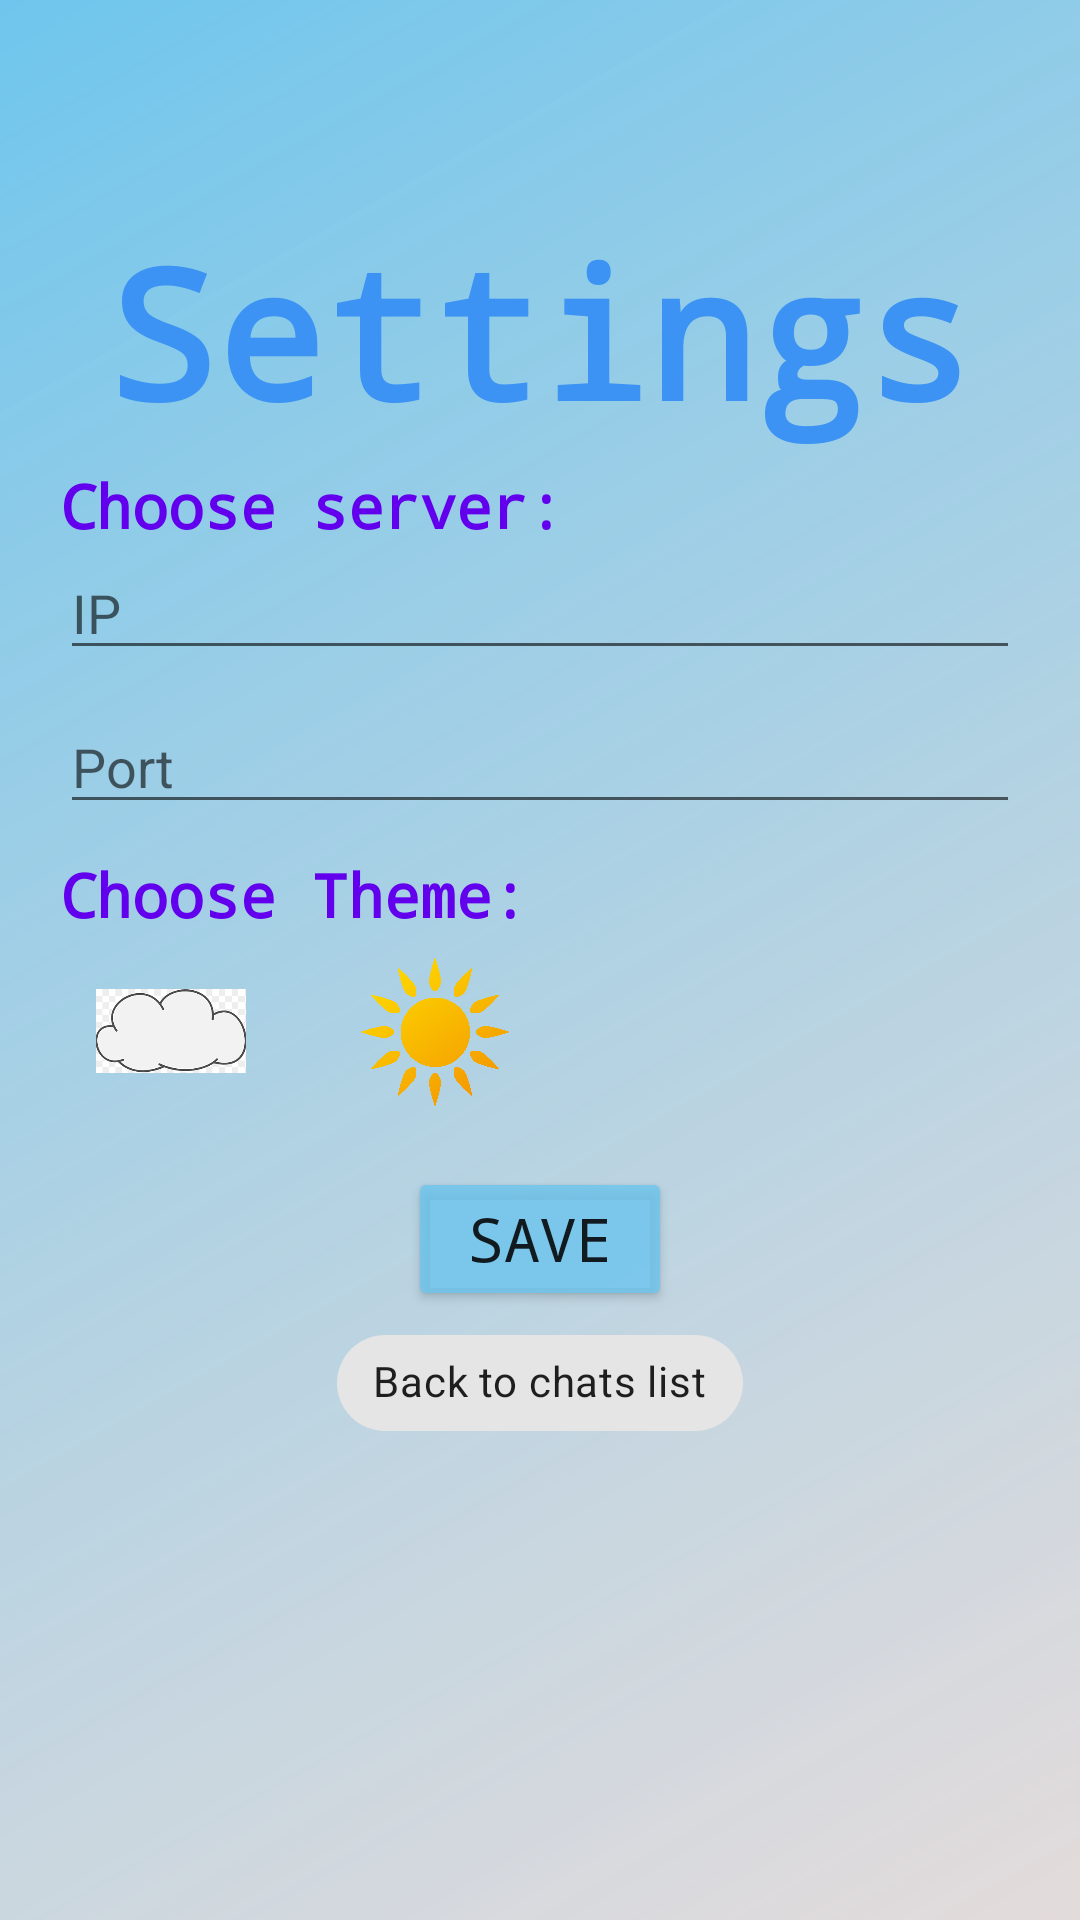

Icon click points for this 1080w x 1920h phone screenshot, format (x,y):
cloud: (171,1031)
sun: (435,1032)
